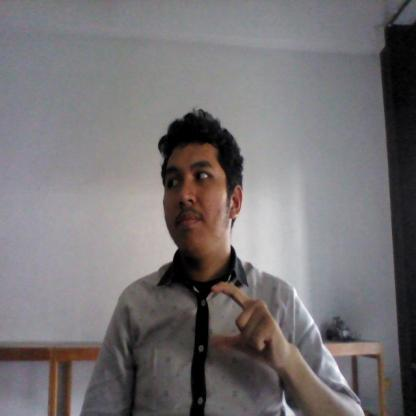C: (205, 277, 290, 371)
